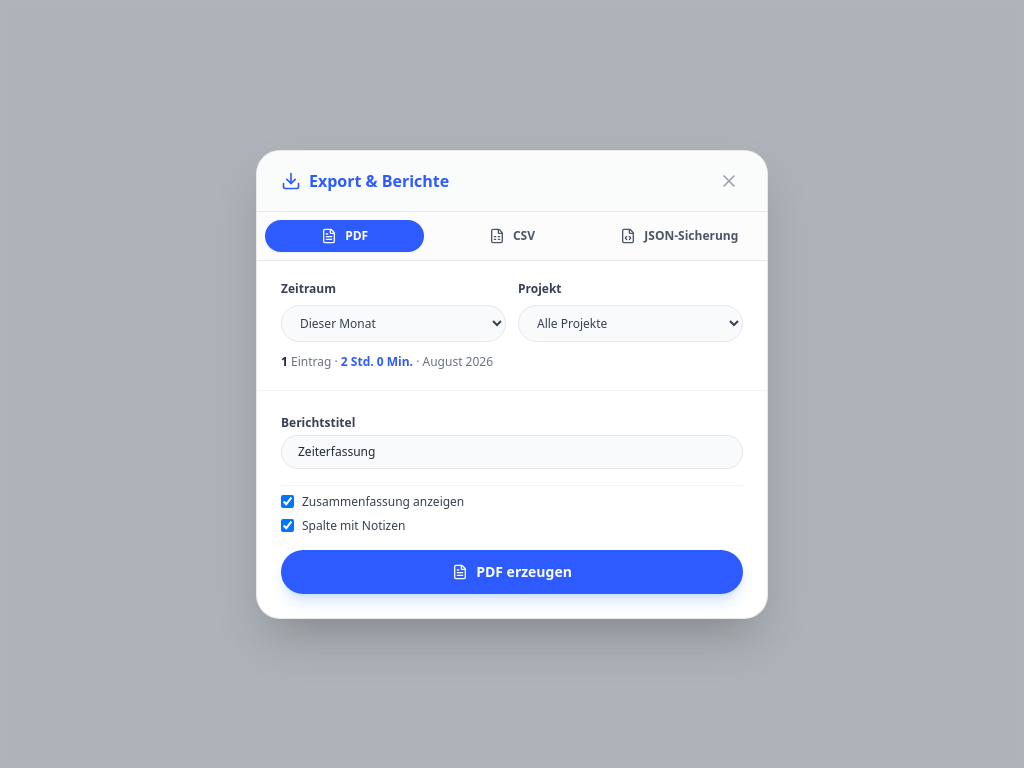
Scenario: ExportModal result message › reports where the file went
This screenshot has width=1024, height=768.
Click the button "CSV" at (512,236), box [432,220,592,252]
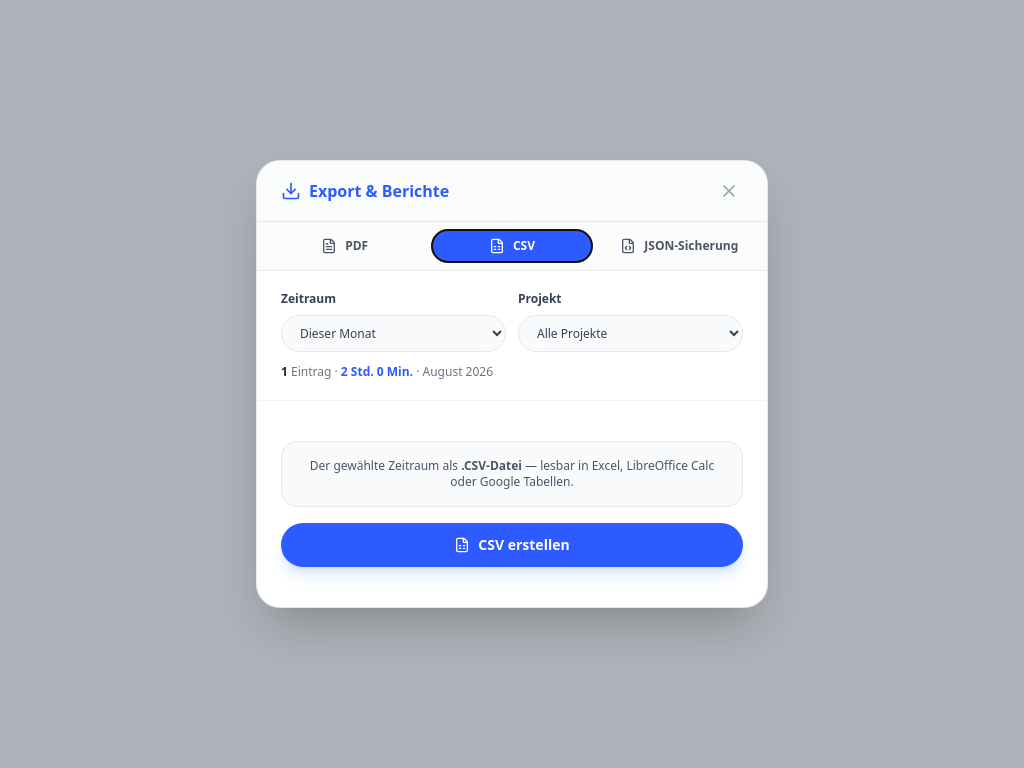
Click the button "CSV erstellen" at (512,545), box [281,523,743,567]
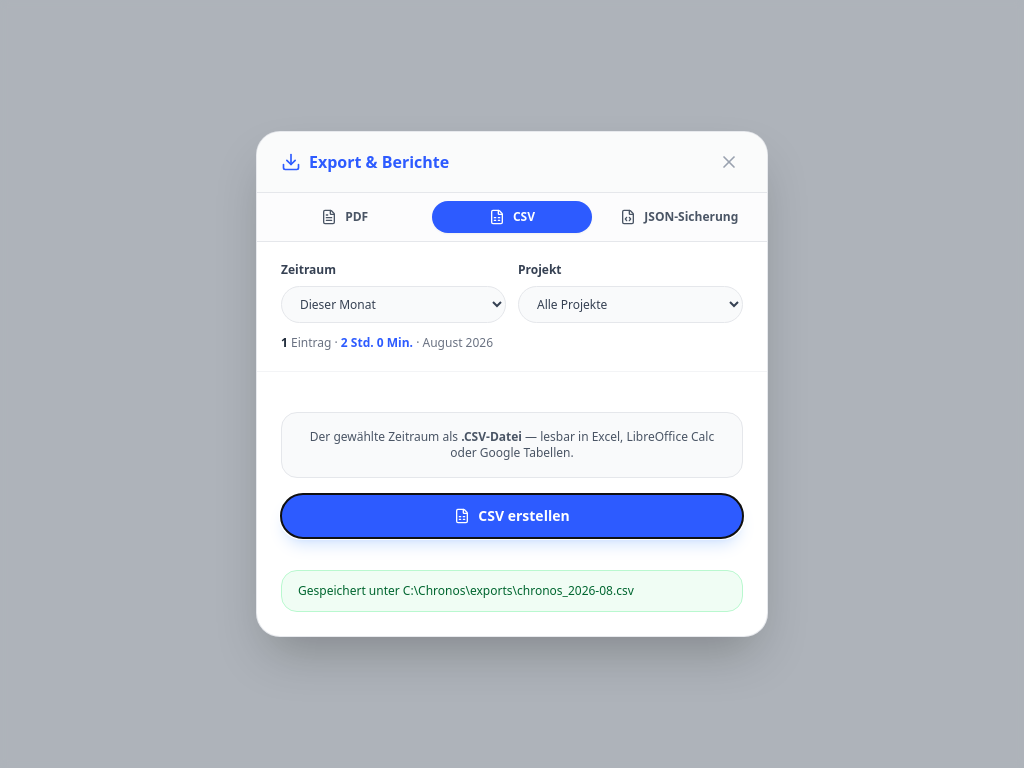
Check: the message shows "Gespeichert unter", box [298,582,634,599]
